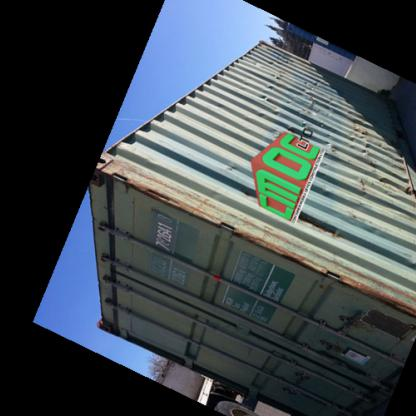Damage: (288, 76, 342, 126), (250, 72, 282, 115), (345, 119, 376, 158), (214, 147, 248, 173), (342, 174, 370, 202)
